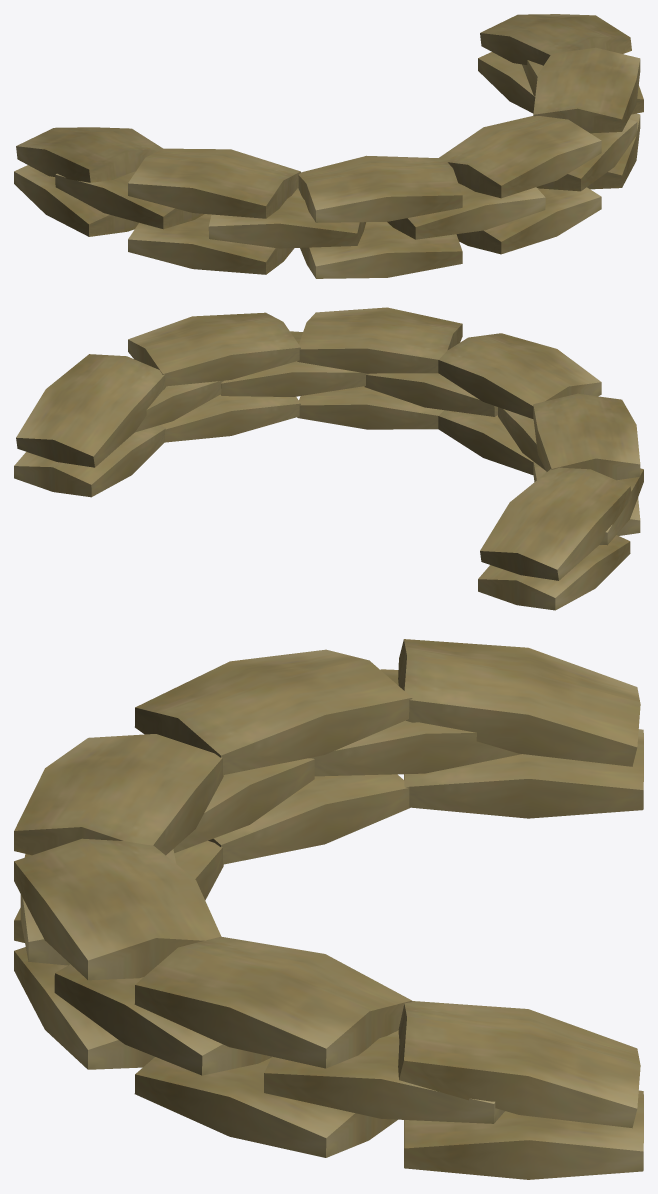
Rendered from sandbags.obj.
3 renders of one model, top to bottom at view 1: azimuth 30°, elevation 25°; view 2: azimuth 150°, elevation 25°; view 3: azimuth 270°, elevation 25°, orthographic. The views are drawn at different scales.
Visible parts, largest first — view 1: g0; view 2: g0; view 3: g0.
Part boxes in pixels (x1=…): g0: x1=14, y1=14, x2=643, y2=278; g0: x1=14, y1=307, x2=643, y2=610; g0: x1=14, y1=639, x2=643, y2=1179.
Size of the model in its own units: 23.19 by 3.5 by 14.35.
1 material, 1 textured.
